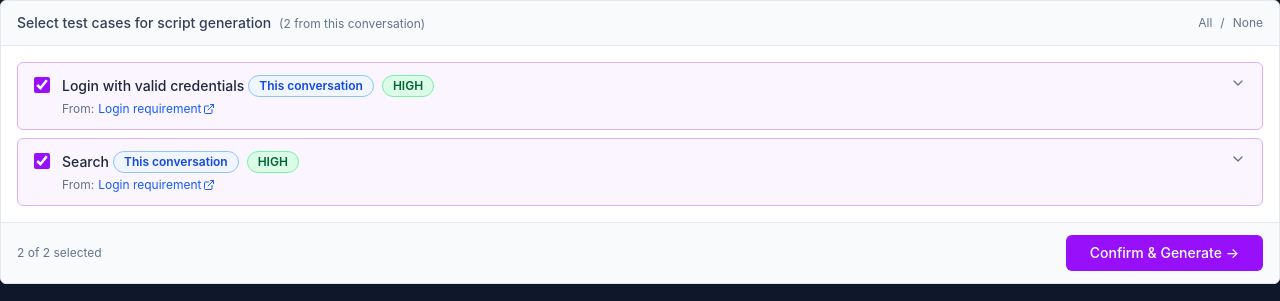
Test: SarahInputSelection › Checkbox interaction › Select None deselects all entries
Click the button "None" at (1248, 23), box x1=1233 y1=15 x2=1263 y2=31
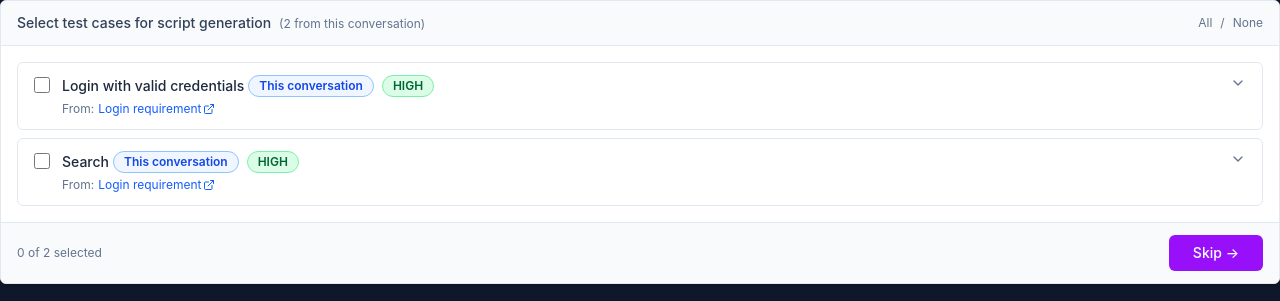
expect the text "0 of 2 selected" is shown: met, box x1=17 y1=245 x2=102 y2=261
